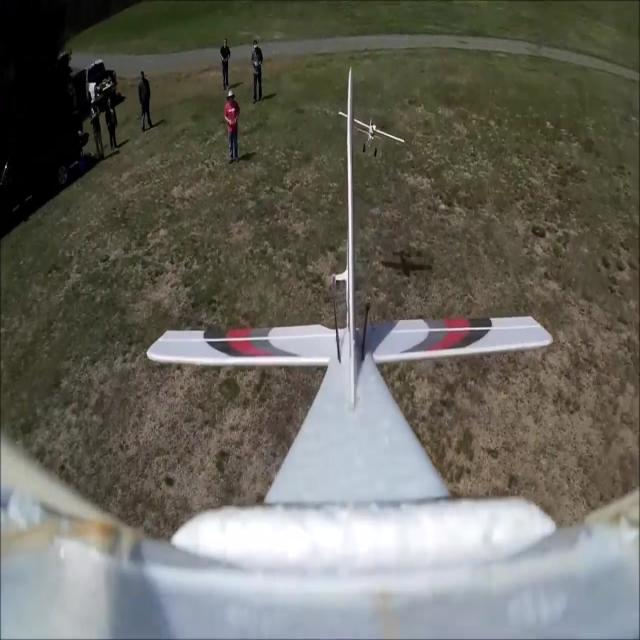iha: (370, 103, 373, 153)
